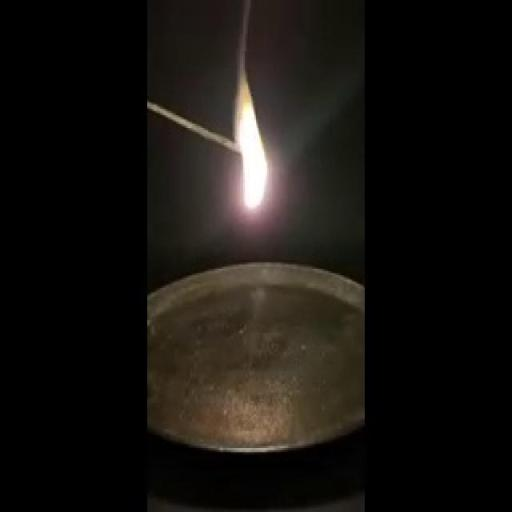smoke: (229, 79, 277, 222)
